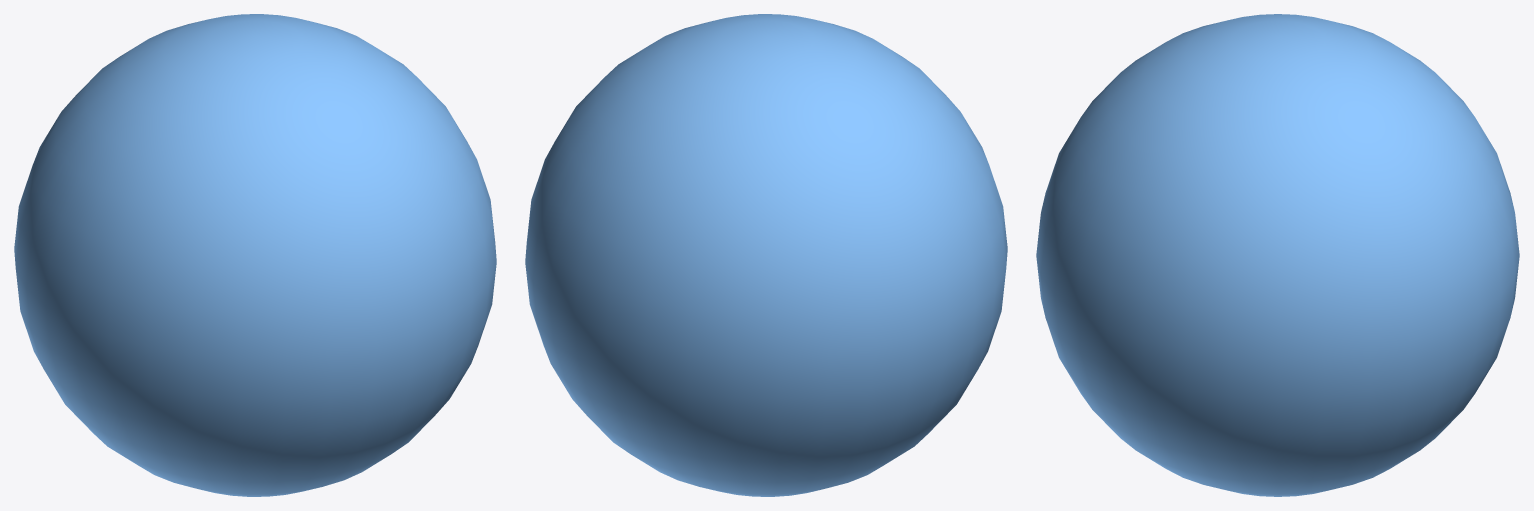
Rendered from Fe_Hierro.glb.
3 views of the same model, side by side, from view 1: azimuth 30°, elevation 25°; view 2: azimuth 150°, elevation 25°; view 3: azimuth 270°, elevation 25° (orthographic).
Visible parts, largest first — view 1: Fe_Nube_Electronica; view 2: Fe_Nube_Electronica; view 3: Fe_Nube_Electronica.
Boxes of the visible parts, x1,y1,x2,y2 form: Fe_Nube_Electronica: [14, 14, 496, 496]; Fe_Nube_Electronica: [525, 14, 1007, 496]; Fe_Nube_Electronica: [1036, 14, 1519, 496].
Bounding box in the file's own units: 0.274 × 0.274 × 0.274.
